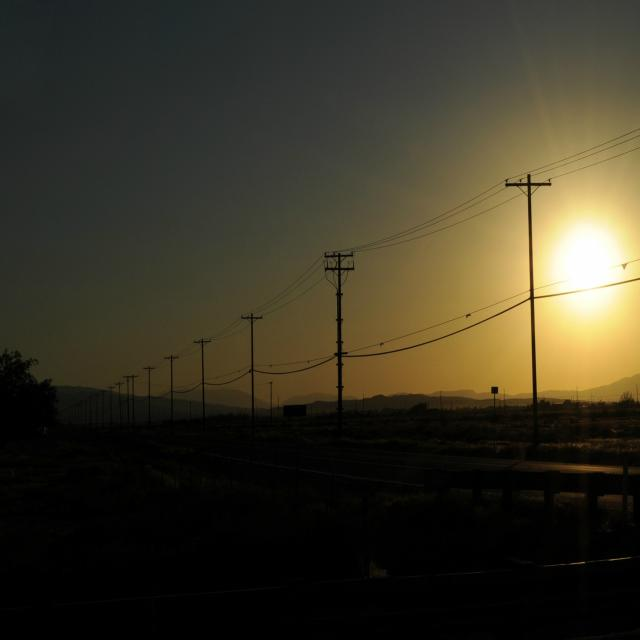pole: (523, 190, 539, 408), (333, 271, 346, 411), (249, 323, 259, 412), (198, 346, 208, 426), (169, 362, 176, 420)
